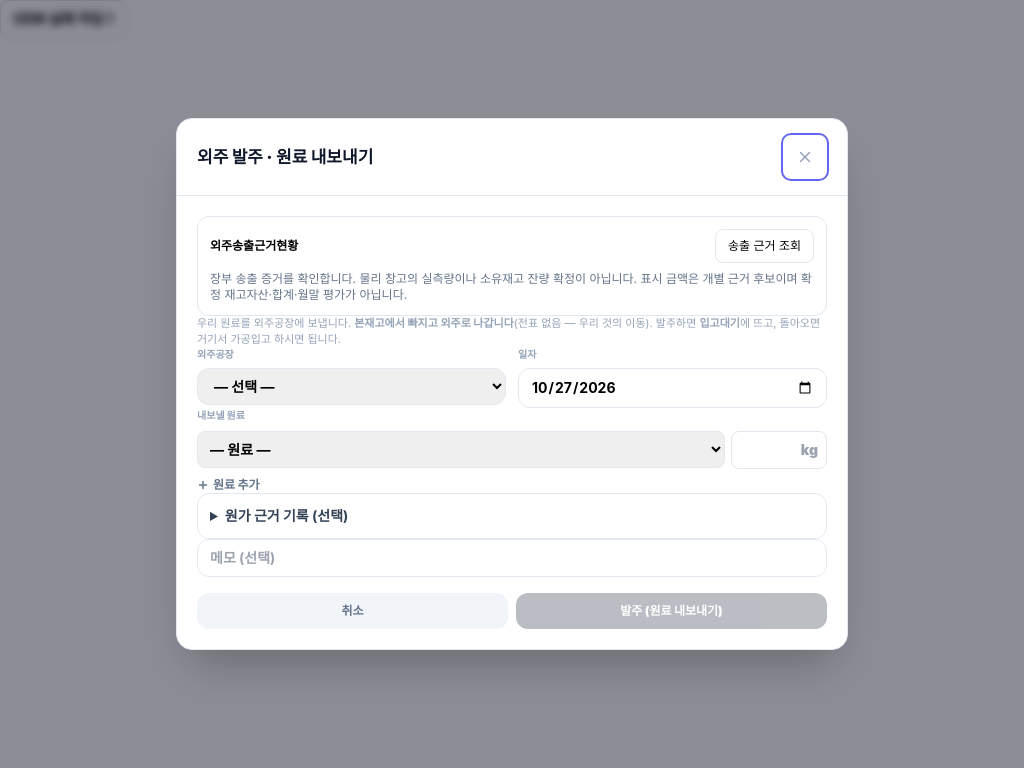
Test case: 손상 발주 원문 는 새 발주로 덮지 않는다
The width and height of the screenshot is (1024, 768).
Select "외주공장" in the dropdown below "일자" at x=352, y=386, box [197, 368, 506, 405]
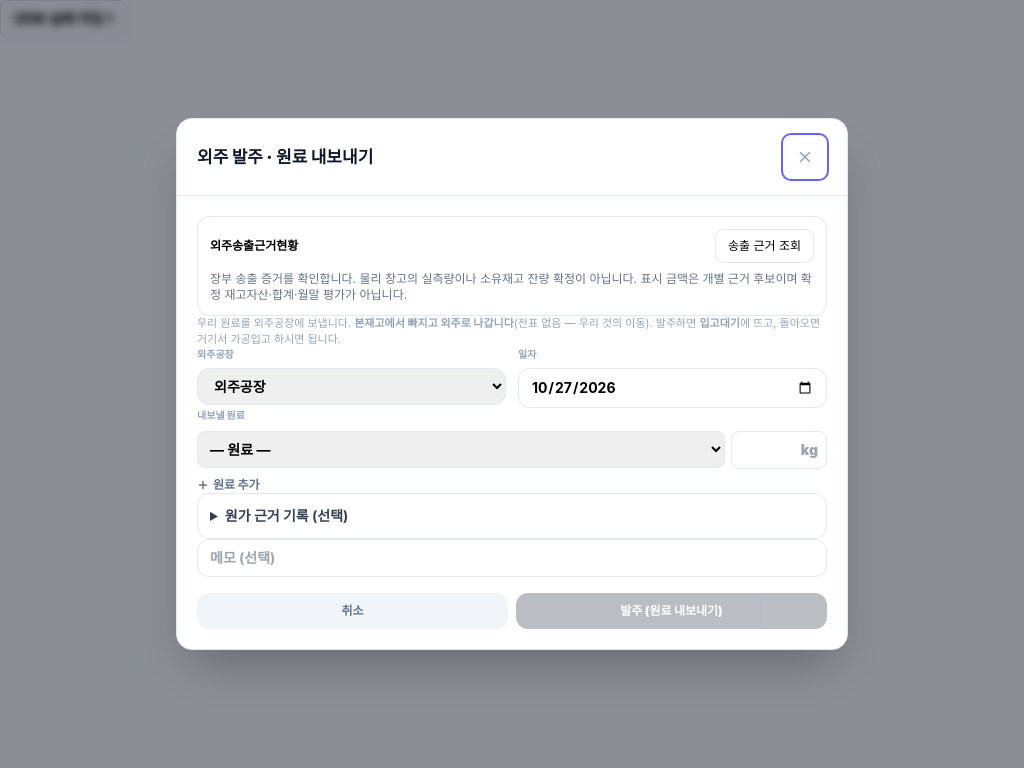
Select "들깨" in the dropdown below "내보낼 원료" at x=461, y=450, box [197, 431, 725, 468]
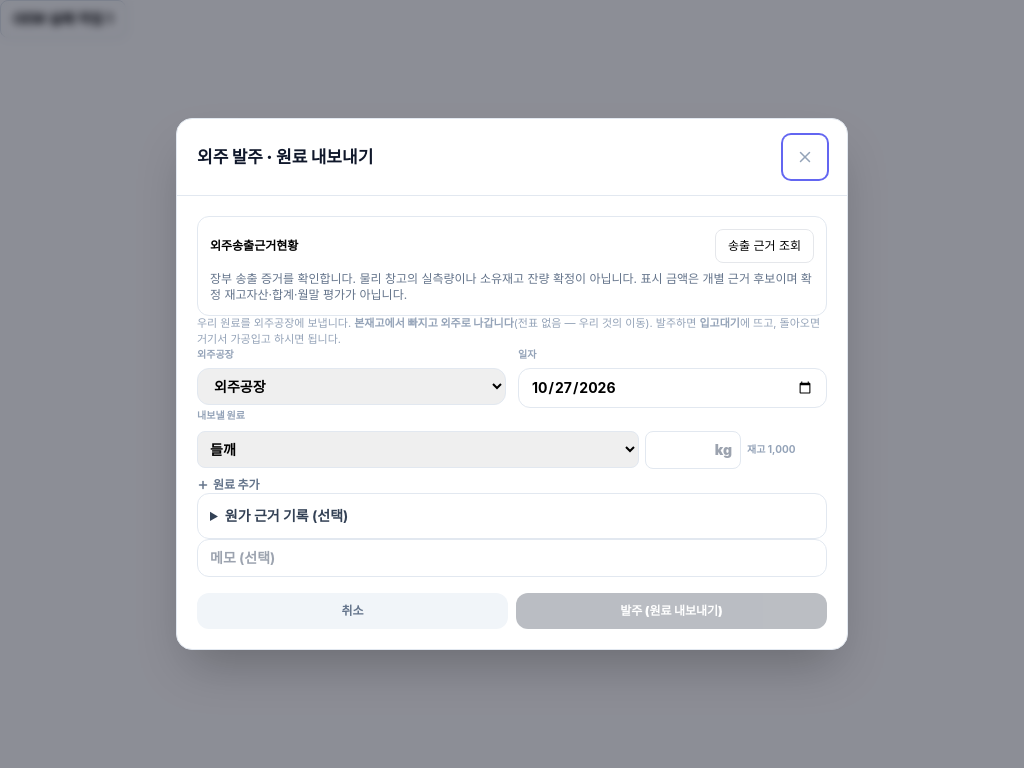
Type "100" into the field with placeholder "kg" at x=693, y=450, box [645, 431, 741, 469]
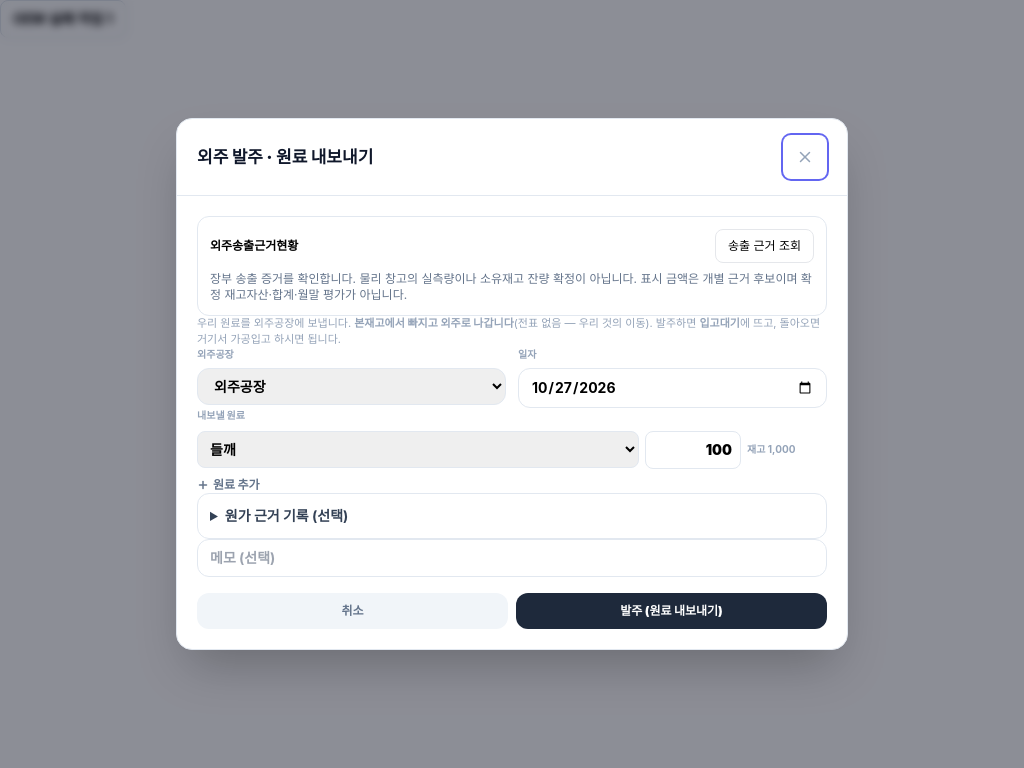
Click the button "발주 (원료 내보내기)" at x=672, y=611, box [516, 593, 827, 629]
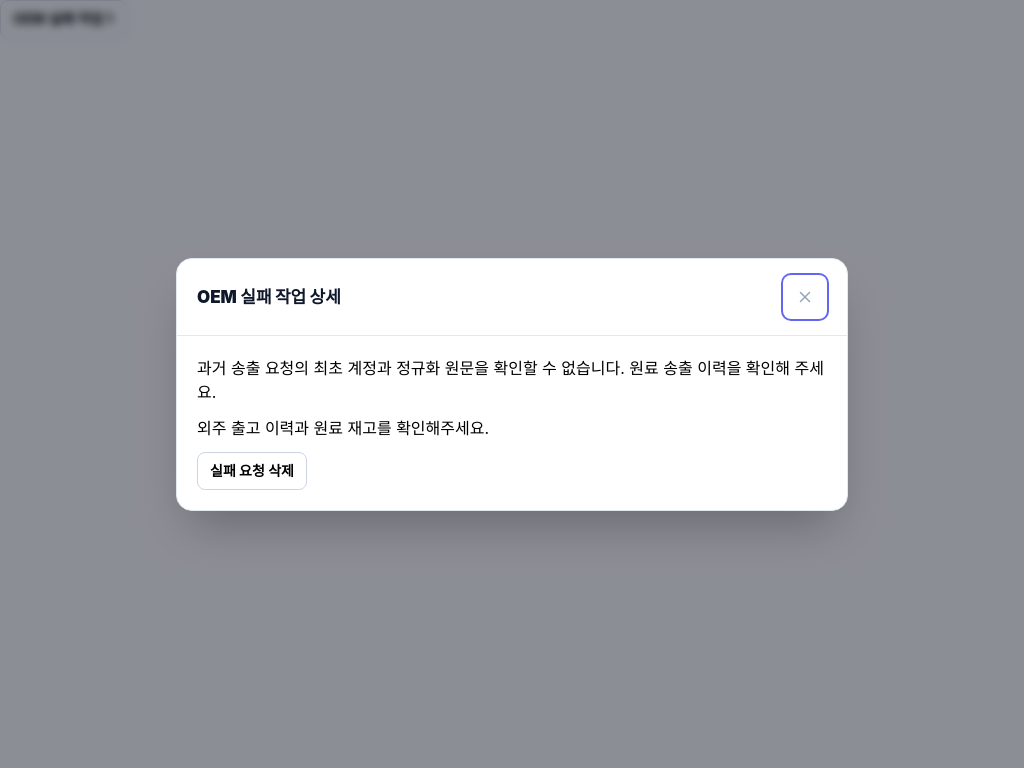
expect the dialog "OEM 실패 작업 상세" is shown: met, box [176, 258, 848, 510]
expect the text "과거 송출 요청의 최초 계정과 정규화 원문을 확인할 수 없습니다. 원료 송출 이력을 확인해 주세요." is shown: met, box [197, 356, 827, 404]
